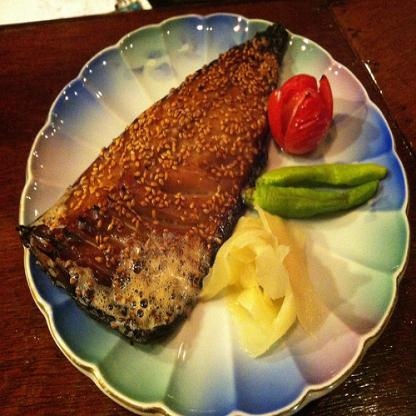Peixe: (25, 17, 296, 349)
